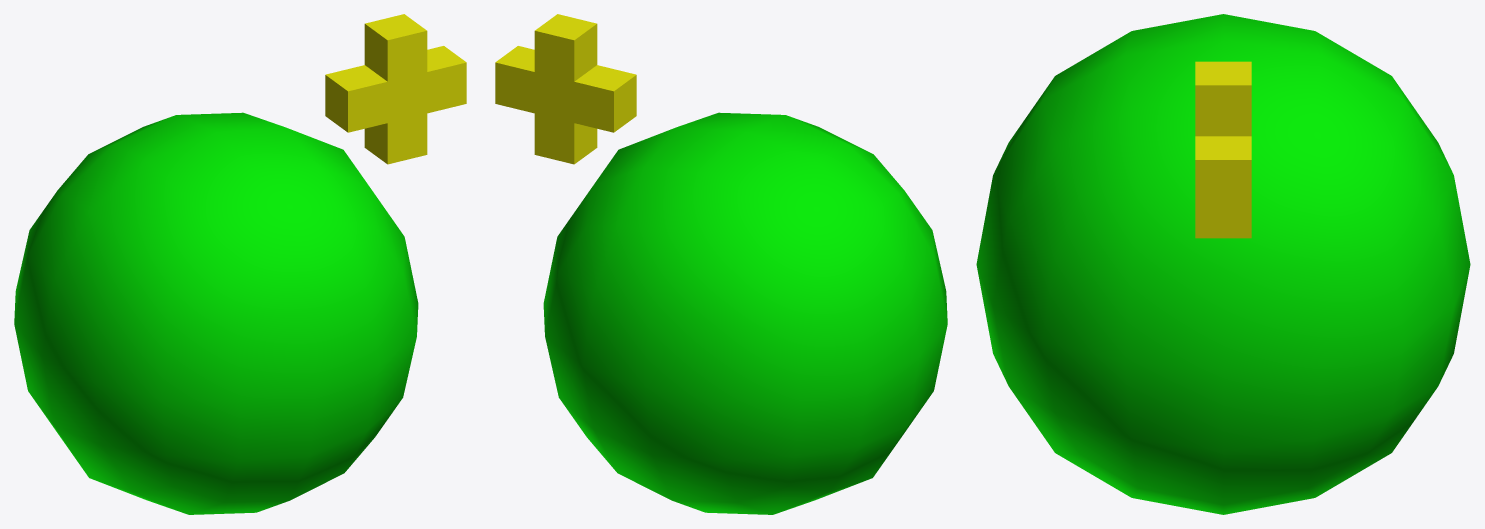
The model's file is kaihuku.fbx.
3 renders of one model, left to right at view 1: azimuth 30°, elevation 25°; view 2: azimuth 150°, elevation 25°; view 3: azimuth 270°, elevation 25°, orthographic. The views are drawn at different scales.
Parts seen in each view (by area): view 1: pCube1, pCube2; view 2: pCube1, pCube2; view 3: pCube1, pCube2.
Boxes of the visible parts, box(x1,y1,x2,y2) form: pCube1: box(14, 112, 418, 514); pCube2: box(325, 14, 466, 164); pCube1: box(543, 112, 947, 514); pCube2: box(495, 14, 636, 164); pCube1: box(976, 14, 1470, 514); pCube2: box(1195, 61, 1251, 238).
Bounding box in the file's own units: 104 × 103 × 87.85.
